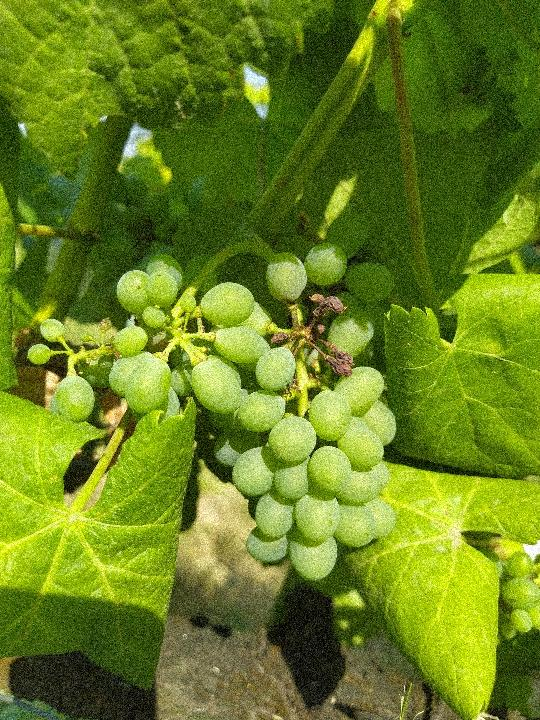grape: (23, 212, 404, 585)
